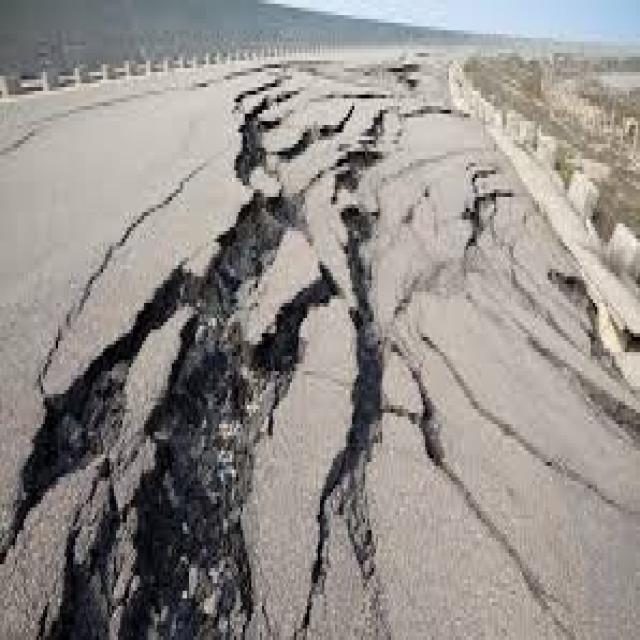Earthquake: (150, 22, 506, 640)
